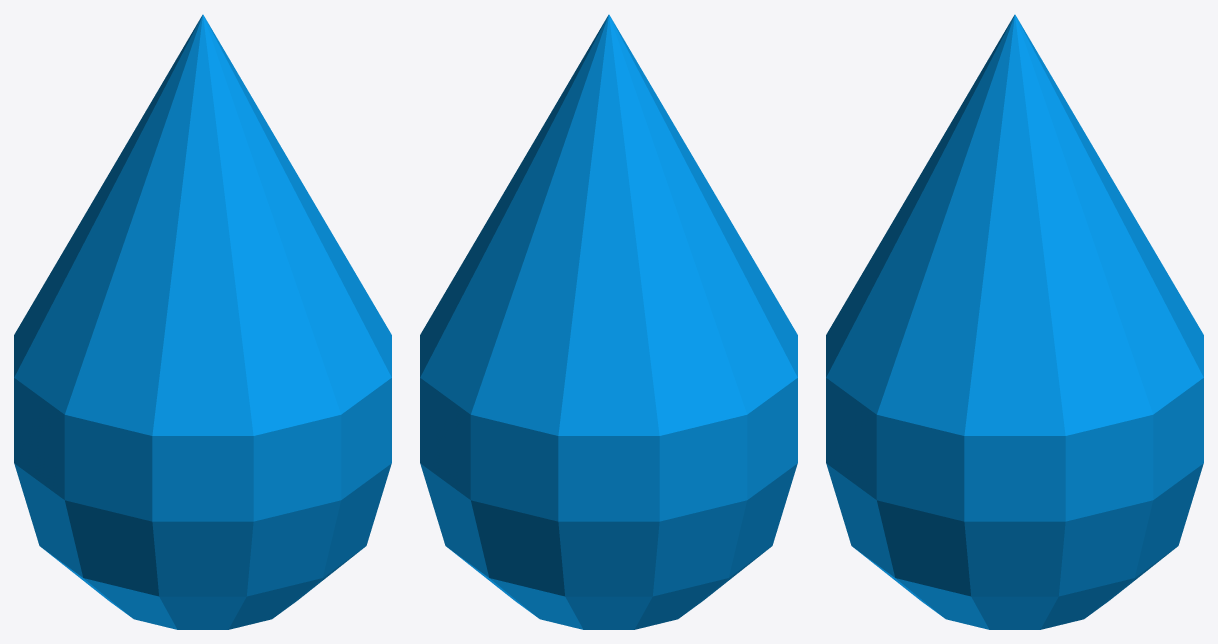
Rendered from waterdrop.fbx.
The picture shows the model from 3 angles, left to right: view 1: azimuth 30°, elevation 25°; view 2: azimuth 150°, elevation 25°; view 3: azimuth 270°, elevation 25°; orthographic projection.
Parts seen in each view (by area): view 1: cone, cylinder, sphere; view 2: cone, cylinder, sphere; view 3: cone, cylinder, sphere.
Boxes of the visible parts, x1,y1,x2,y2 form: cone: [14, 14, 391, 435]; cylinder: [14, 378, 391, 521]; sphere: [14, 463, 391, 629]; cone: [420, 14, 797, 435]; cylinder: [420, 378, 797, 521]; sphere: [420, 463, 797, 629]; cone: [826, 14, 1203, 435]; cylinder: [826, 378, 1203, 521]; sphere: [826, 463, 1203, 629].
Size of the model in its own units: 25 by 43.75 by 25.
Materials: 1 (1 with a texture image).
